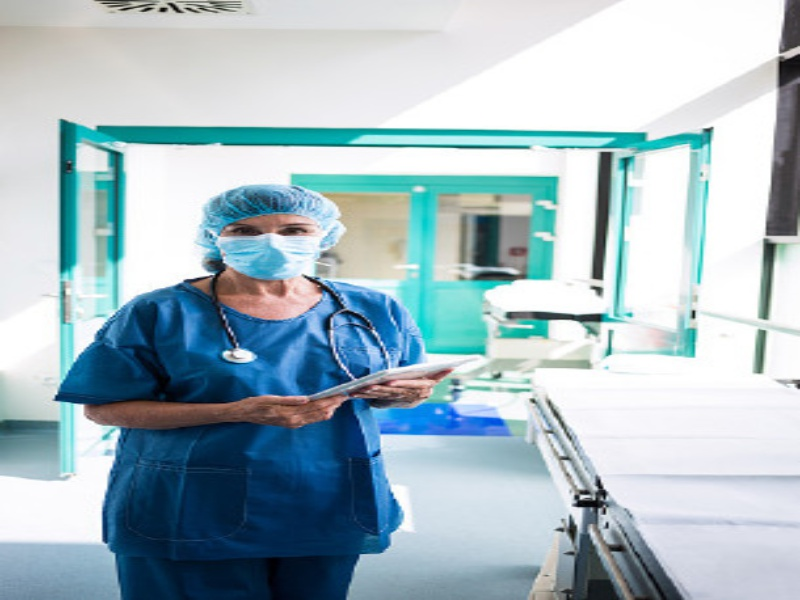mask: (188, 178, 349, 302)
